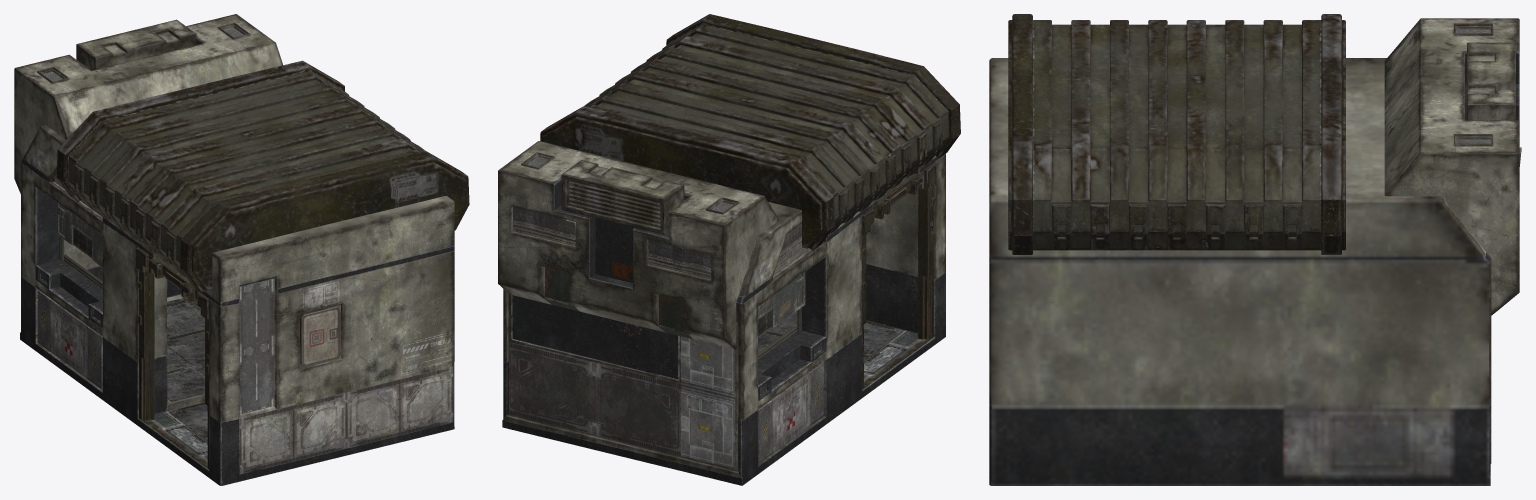
File: SM_Trapezoid_Shop.fbx
3 views of the same model, side by side, from view 1: azimuth 30°, elevation 25°; view 2: azimuth 150°, elevation 25°; view 3: azimuth 270°, elevation 25° (orthographic). The views are drawn at different scales.
Visible parts, largest first — view 1: SM_Trapezoid_Shop_LOD0; view 2: SM_Trapezoid_Shop_LOD0; view 3: SM_Trapezoid_Shop_LOD0.
Boxes of the visible parts, x1,y1,x2,y2 form: SM_Trapezoid_Shop_LOD0: [14, 14, 469, 485]; SM_Trapezoid_Shop_LOD0: [498, 14, 960, 485]; SM_Trapezoid_Shop_LOD0: [989, 14, 1521, 485].
Bounding box in the file's own units: 415 × 541 × 382.
4 materials, 4 textured.
